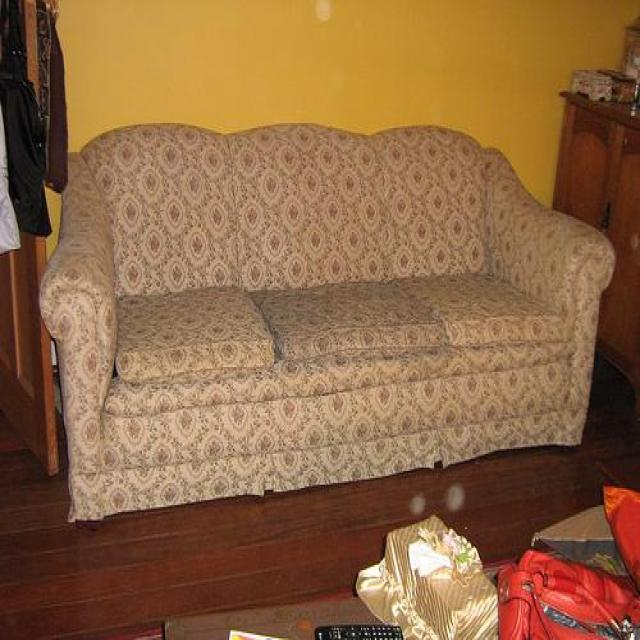sofa: (38, 118, 617, 527)
